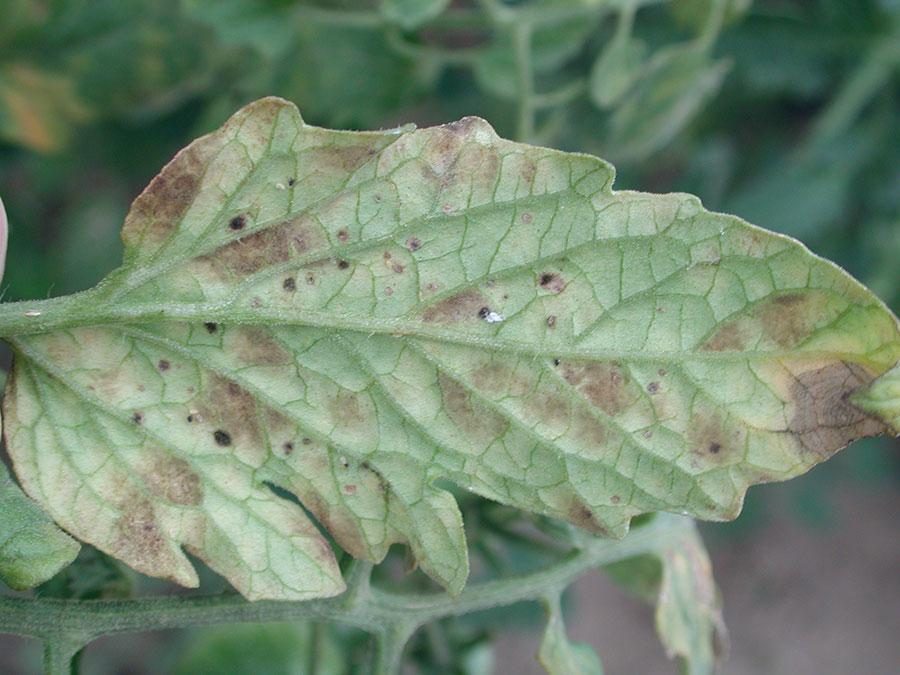Tomato mold leaf: (6, 71, 900, 640)
